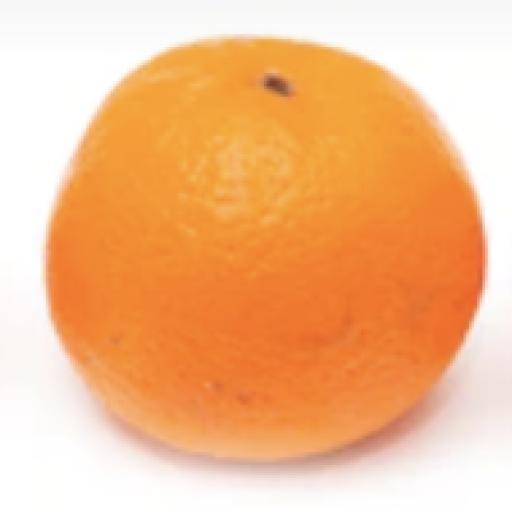orange: (49, 40, 485, 459)
